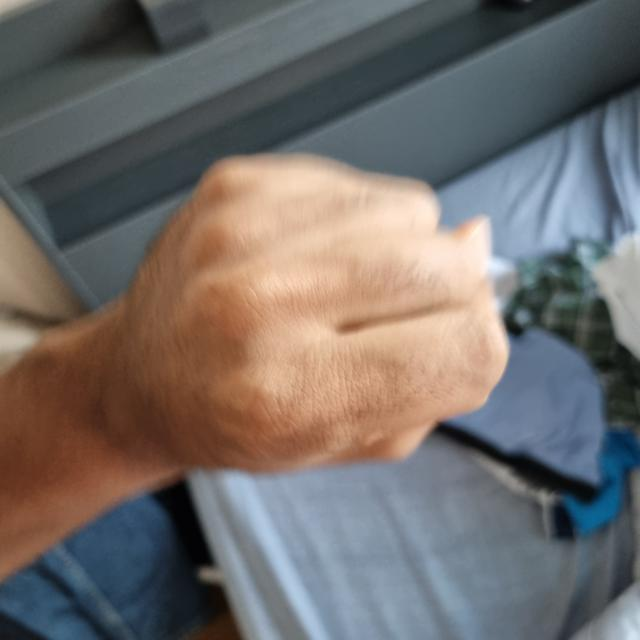Rock: (98, 159, 504, 471)
